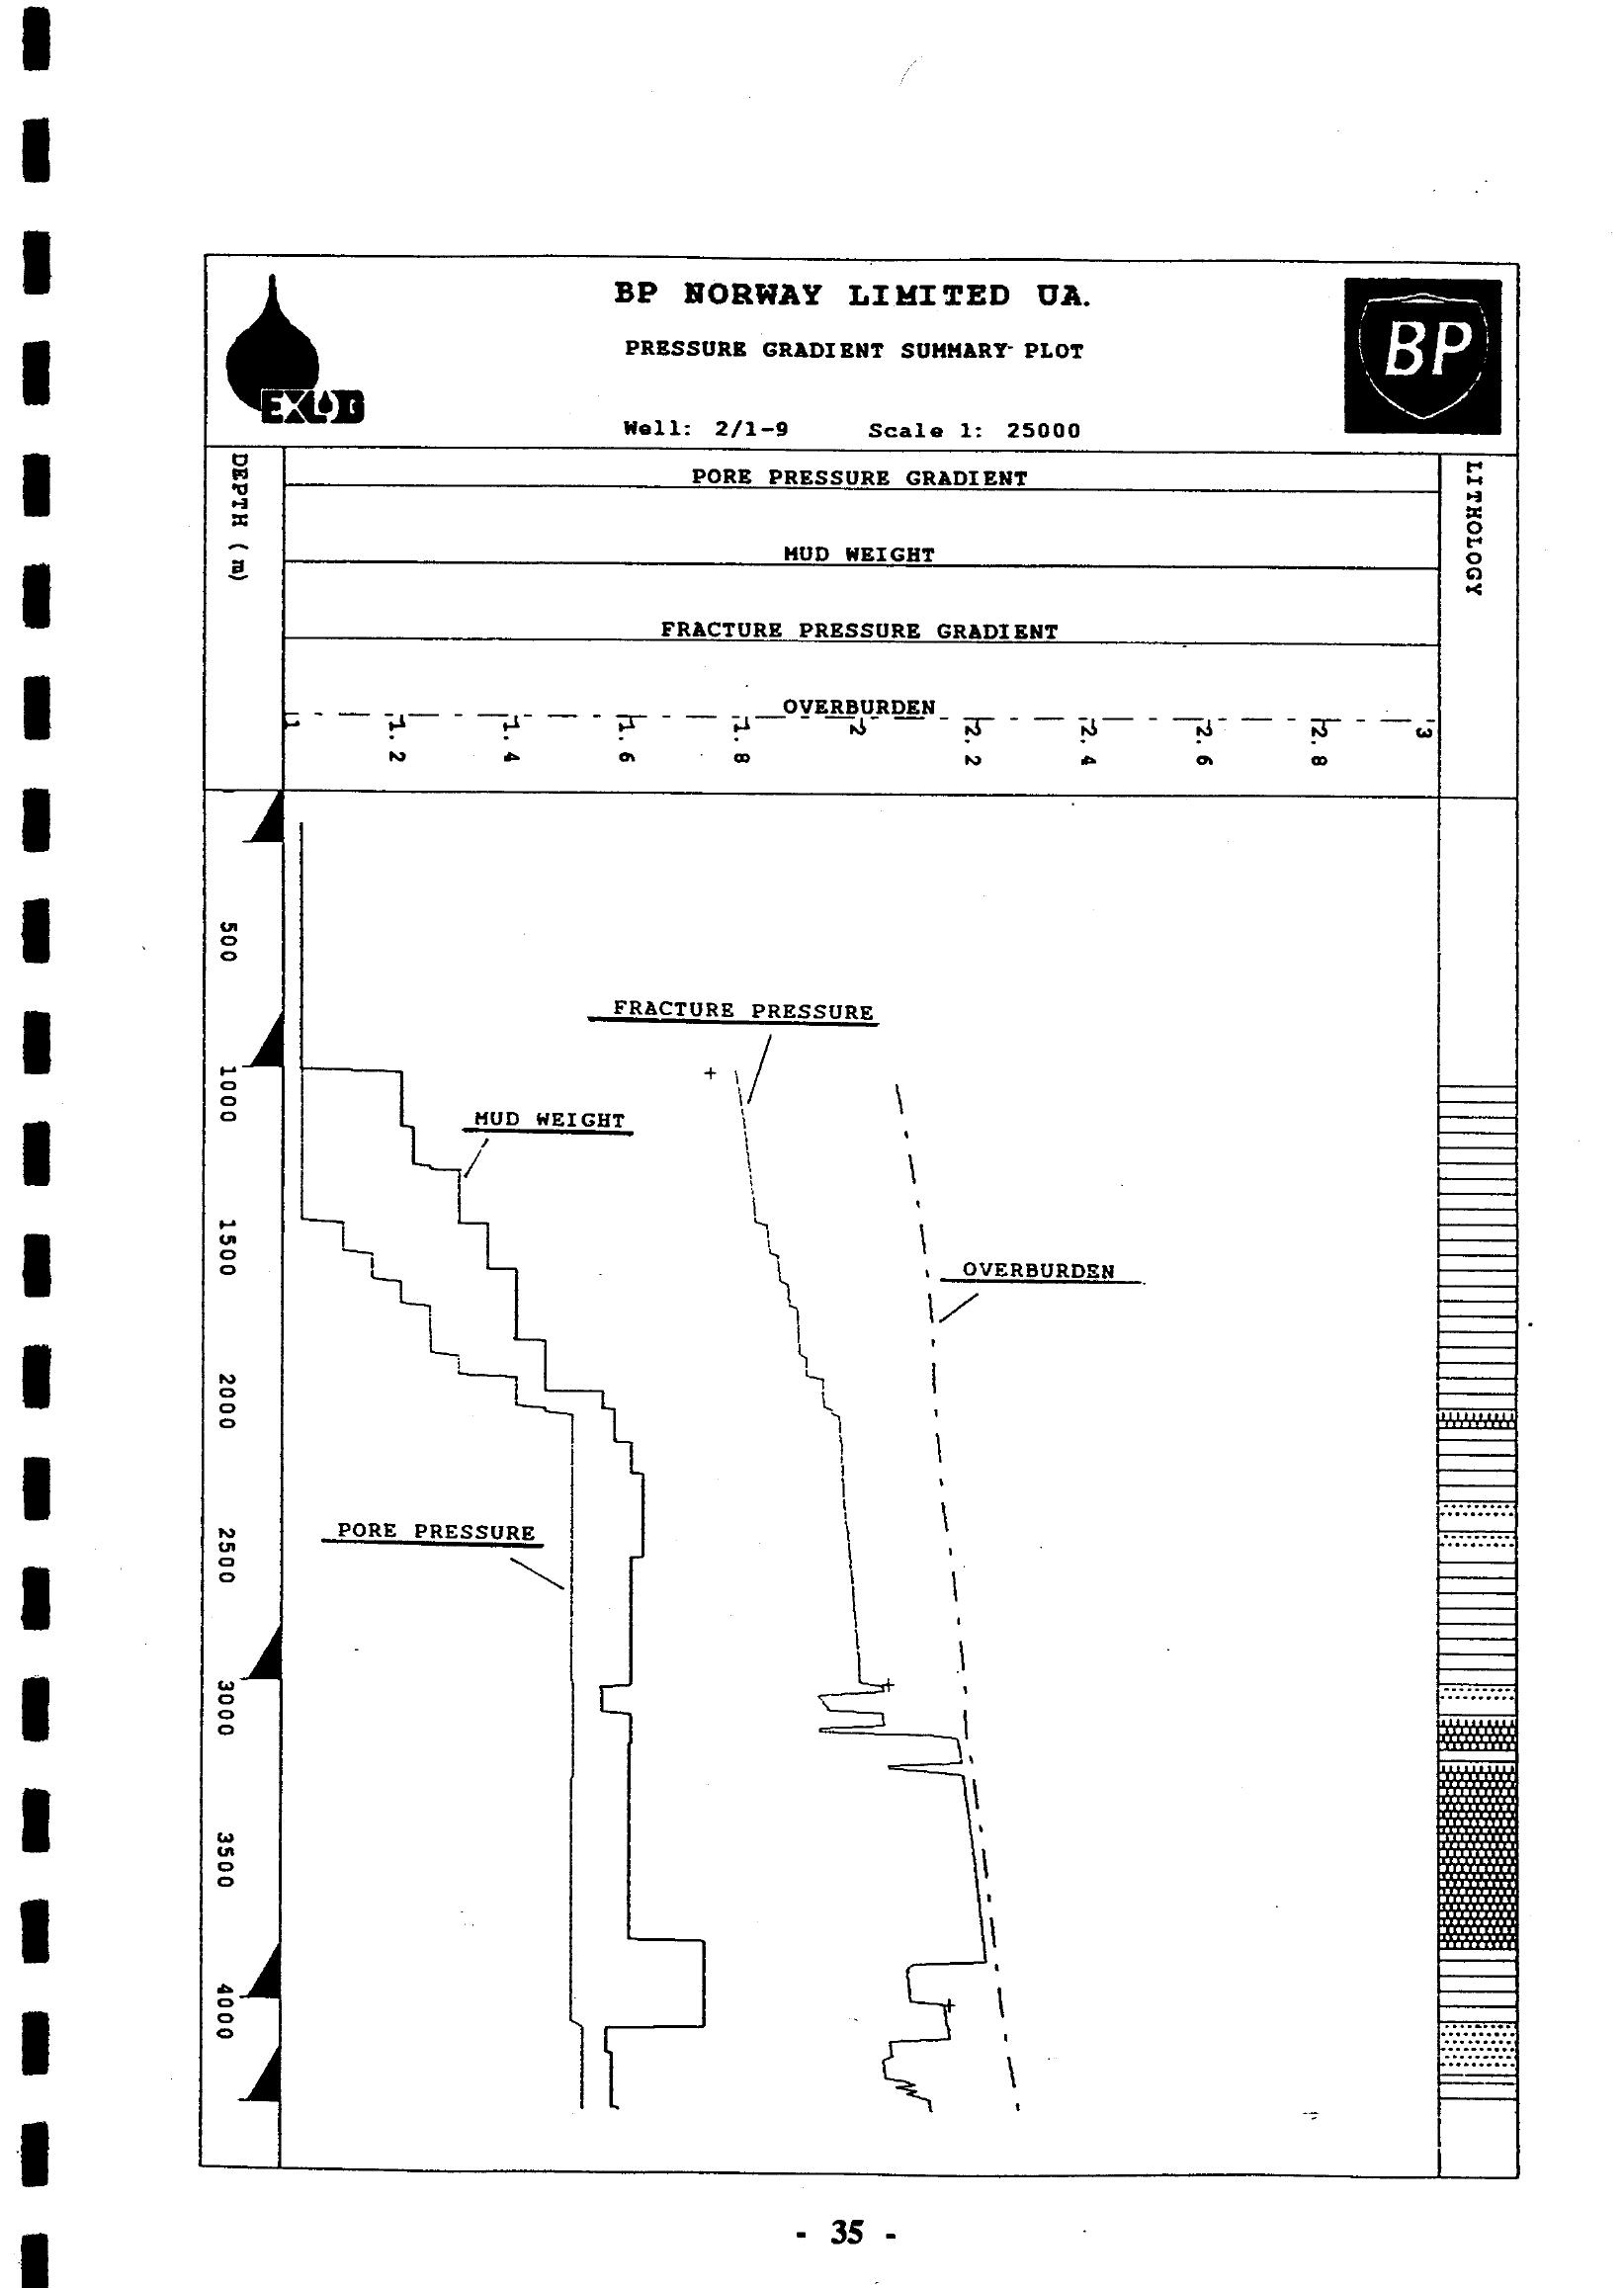graph: (153, 207, 1592, 2214)
